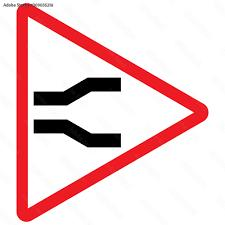Road Wideness Ahead: (11, 0, 223, 216)
